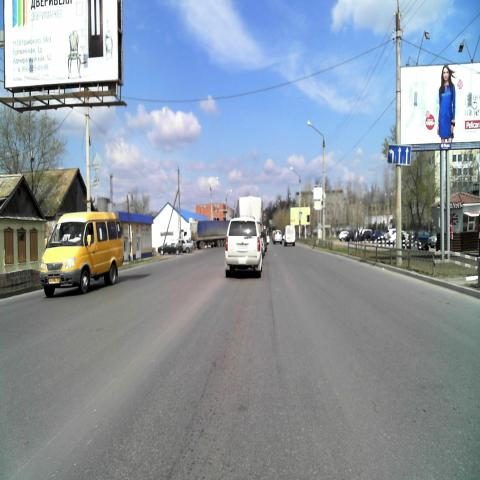5_15_1: (387, 144, 411, 167)
